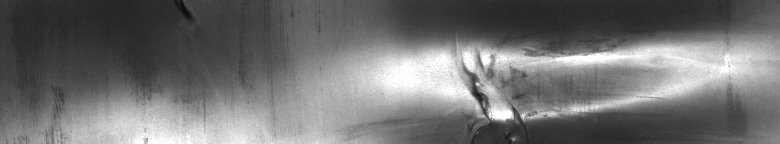ke: (463, 44, 644, 136)
